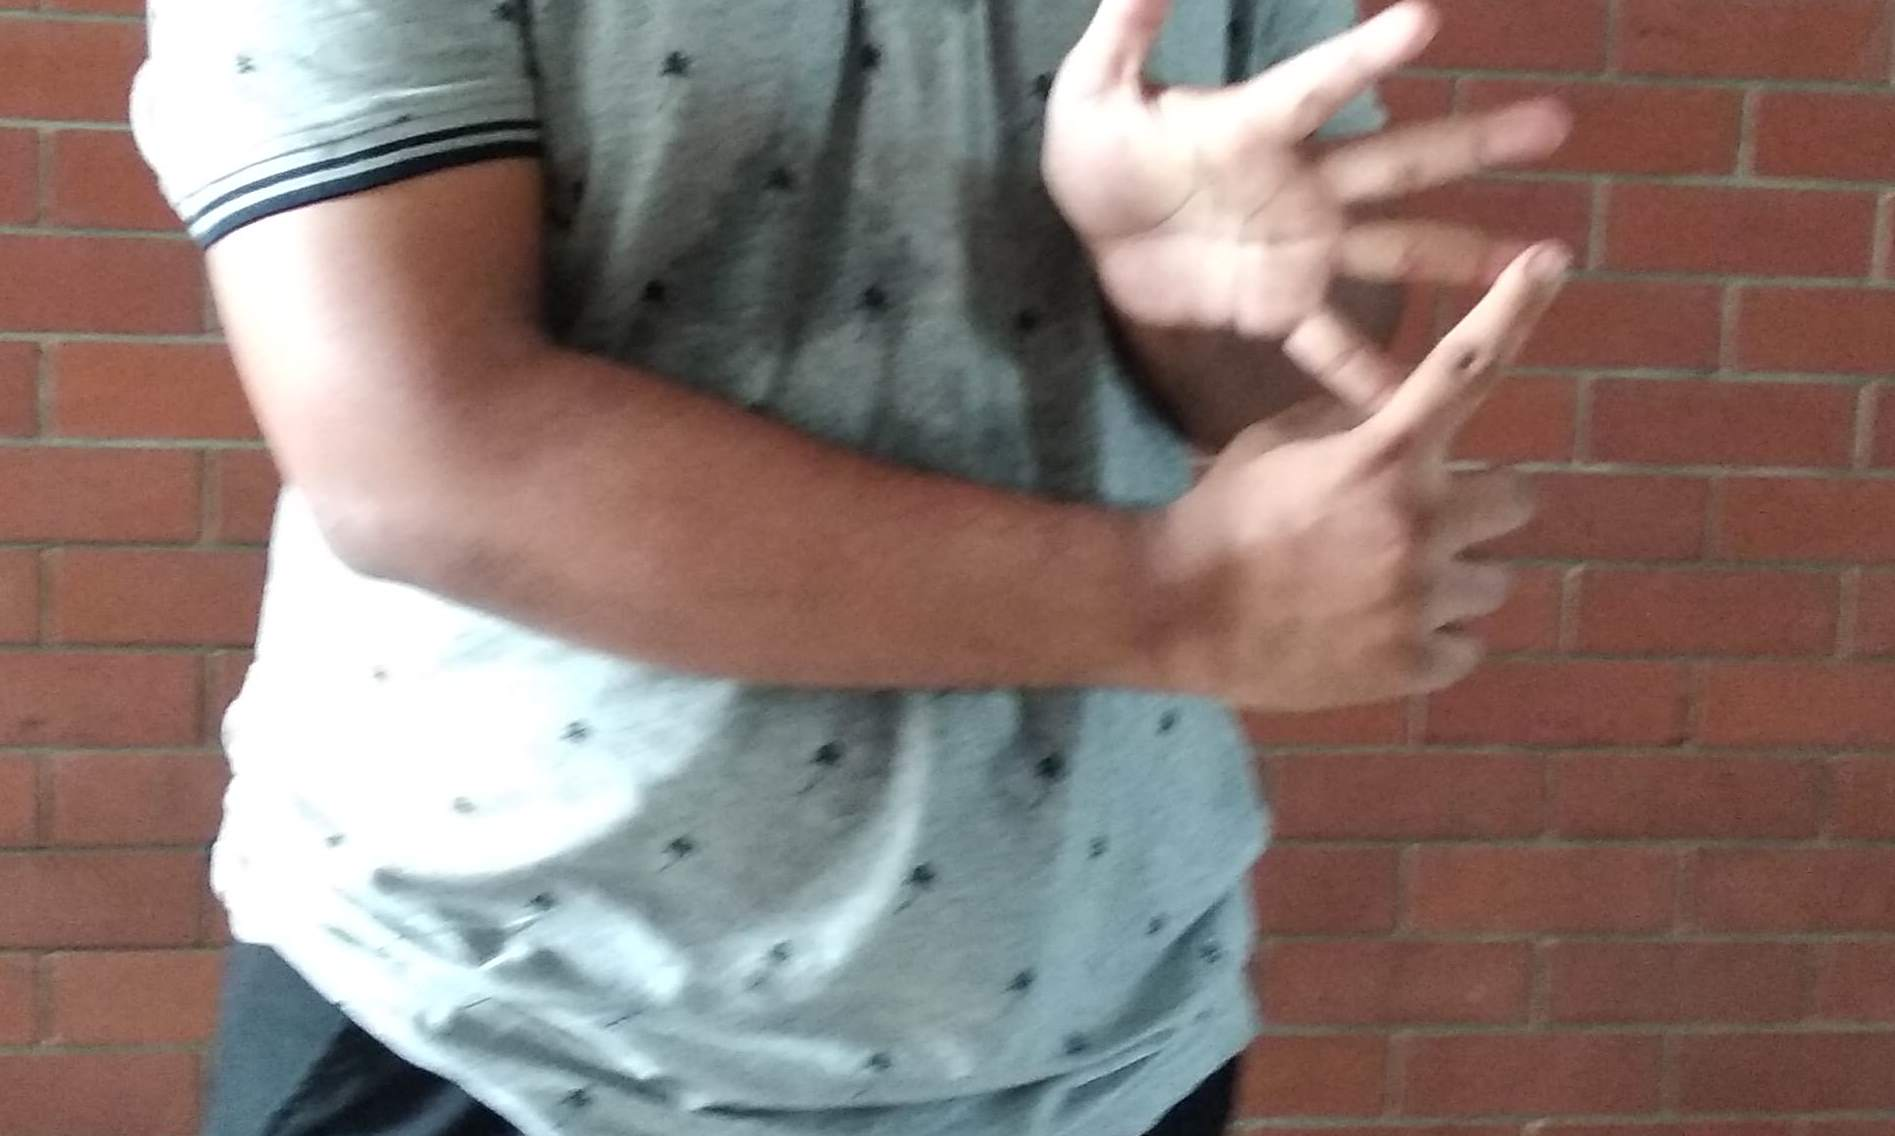e: (1079, 15, 1581, 686)
